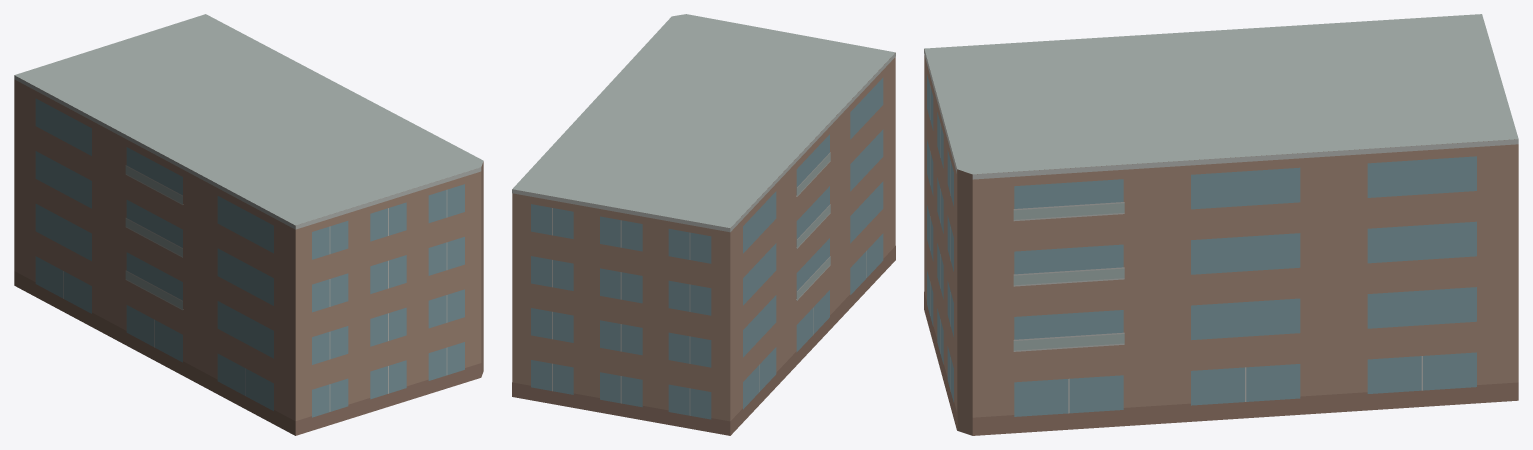
File: survey-upis-32958273.glb
3 views of the same model, side by side, from view 1: azimuth 30°, elevation 25°; view 2: azimuth 150°, elevation 25°; view 3: azimuth 270°, elevation 25° (orthographic). The views are drawn at different scales.
Visible parts, largest first — view 1: survey-upis-32958273.tmp; view 2: survey-upis-32958273.tmp; view 3: survey-upis-32958273.tmp.
Boxes of the visible parts, box(x1,y1,x2,y2) form: survey-upis-32958273.tmp: box(14, 14, 483, 435); survey-upis-32958273.tmp: box(512, 14, 895, 435); survey-upis-32958273.tmp: box(924, 14, 1518, 435).
Bounding box in the file's own units: 16.32 × 12.4 × 25.56.
